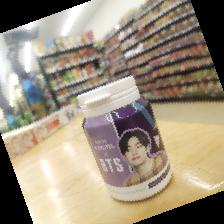Xylitol_BTS: (79, 75, 174, 201)
